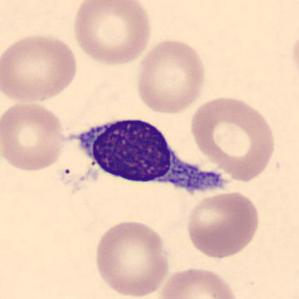Lymphocyte: (76, 116, 230, 196)
RBC: (188, 93, 278, 185), (91, 218, 172, 298), (133, 36, 209, 115), (0, 31, 80, 105), (70, 0, 154, 67), (183, 190, 262, 260), (0, 98, 67, 173), (156, 264, 242, 299)
